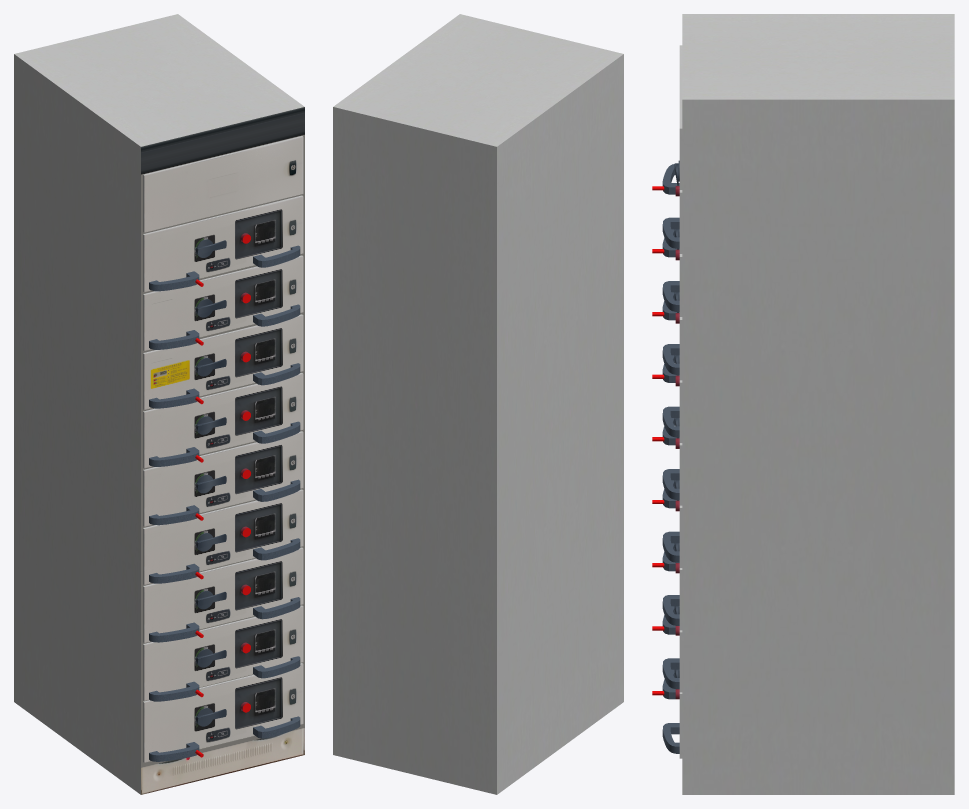
Rendered from peidiangui.glb.
3 views of the same model, side by side, from view 1: azimuth 30°, elevation 25°; view 2: azimuth 150°, elevation 25°; view 3: azimuth 270°, elevation 25° (orthographic). The views are drawn at different scales.
Parts seen in each view (by area): view 1: Obj3d66-15316024-1-369; view 2: Obj3d66-15316024-1-369; view 3: Obj3d66-15316024-1-369.
Boxes of the visible parts, x1,y1,x2,y2 form: Obj3d66-15316024-1-369: (14,14,304,794); Obj3d66-15316024-1-369: (333,14,623,794); Obj3d66-15316024-1-369: (652,14,954,794).
Bounding box in the file's own units: 38.59 × 146 × 57.44.
Materials: 18 (18 with a texture image).
